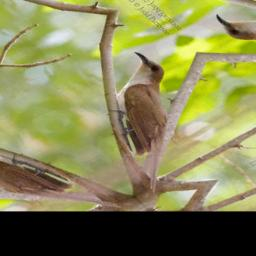Cuckoo: (57, 47, 220, 158)
